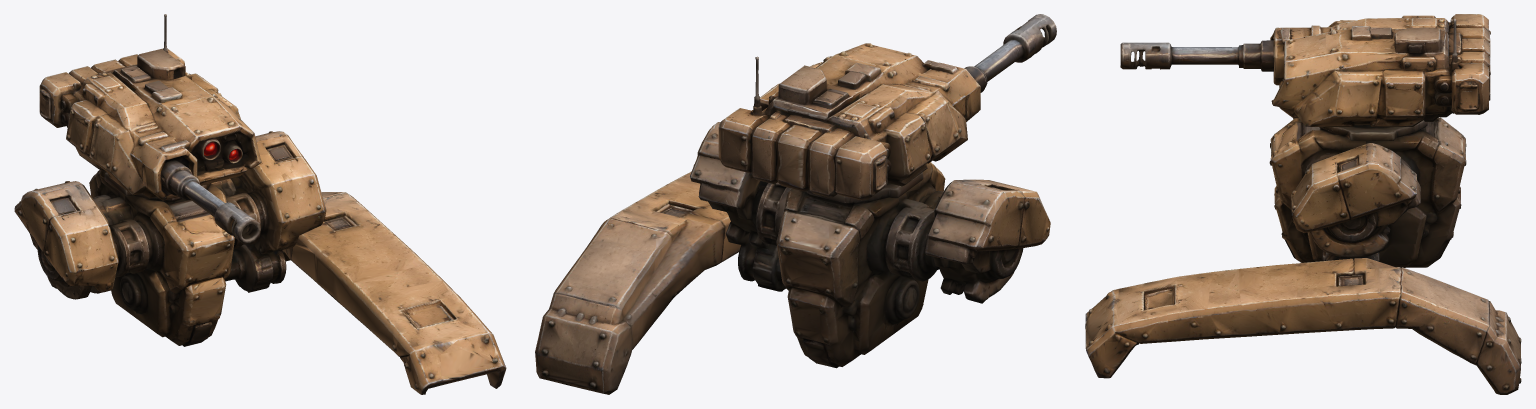
File: Starter.fbx
3 views of the same model, side by side, from view 1: azimuth 30°, elevation 25°; view 2: azimuth 150°, elevation 25°; view 3: azimuth 270°, elevation 25° (orthographic). The views are drawn at different scales.
Parts seen in each view (by area): view 1: tripo_node_e4b06f52-4ff2-434a-b365-255cf7da966d, tripo_node_e4b06f52-4ff2-434a-b365-255cf7da966d.002, tripo_node_e4b06f52-4ff2-434a-b365-255cf7da966d.001, tripo_node_e4b06f52-4ff2-434a-b365-255cf7da966d.003; view 2: tripo_node_e4b06f52-4ff2-434a-b365-255cf7da966d, tripo_node_e4b06f52-4ff2-434a-b365-255cf7da966d.002, tripo_node_e4b06f52-4ff2-434a-b365-255cf7da966d.001, tripo_node_e4b06f52-4ff2-434a-b365-255cf7da966d.003; view 3: tripo_node_e4b06f52-4ff2-434a-b365-255cf7da966d.001, tripo_node_e4b06f52-4ff2-434a-b365-255cf7da966d, tripo_node_e4b06f52-4ff2-434a-b365-255cf7da966d.002, tripo_node_e4b06f52-4ff2-434a-b365-255cf7da966d.003.
Boxes of the visible parts, x1,y1,x2,y2 form: tripo_node_e4b06f52-4ff2-434a-b365-255cf7da966d: (14,131,326,346); tripo_node_e4b06f52-4ff2-434a-b365-255cf7da966d.002: (39,14,261,200); tripo_node_e4b06f52-4ff2-434a-b365-255cf7da966d.001: (282,192,506,394); tripo_node_e4b06f52-4ff2-434a-b365-255cf7da966d.003: (161,160,260,243); tripo_node_e4b06f52-4ff2-434a-b365-255cf7da966d: (690,122,1050,368); tripo_node_e4b06f52-4ff2-434a-b365-255cf7da966d.002: (718,43,980,200); tripo_node_e4b06f52-4ff2-434a-b365-255cf7da966d.001: (535,171,740,394); tripo_node_e4b06f52-4ff2-434a-b365-255cf7da966d.003: (964,14,1056,92); tripo_node_e4b06f52-4ff2-434a-b365-255cf7da966d.001: (1085,258,1521,394); tripo_node_e4b06f52-4ff2-434a-b365-255cf7da966d: (1269,117,1466,267); tripo_node_e4b06f52-4ff2-434a-b365-255cf7da966d.002: (1270,14,1490,126); tripo_node_e4b06f52-4ff2-434a-b365-255cf7da966d.003: (1120,40,1273,71).
Bounding box in the file's own units: 81 × 68.27 × 90.22.
1 material, 1 textured.
